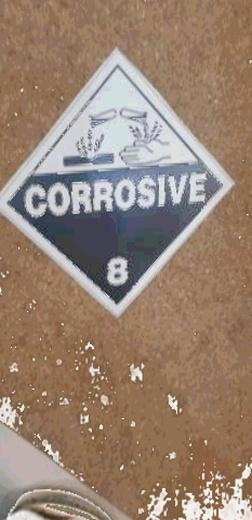corrosive: (1, 46, 239, 326)
